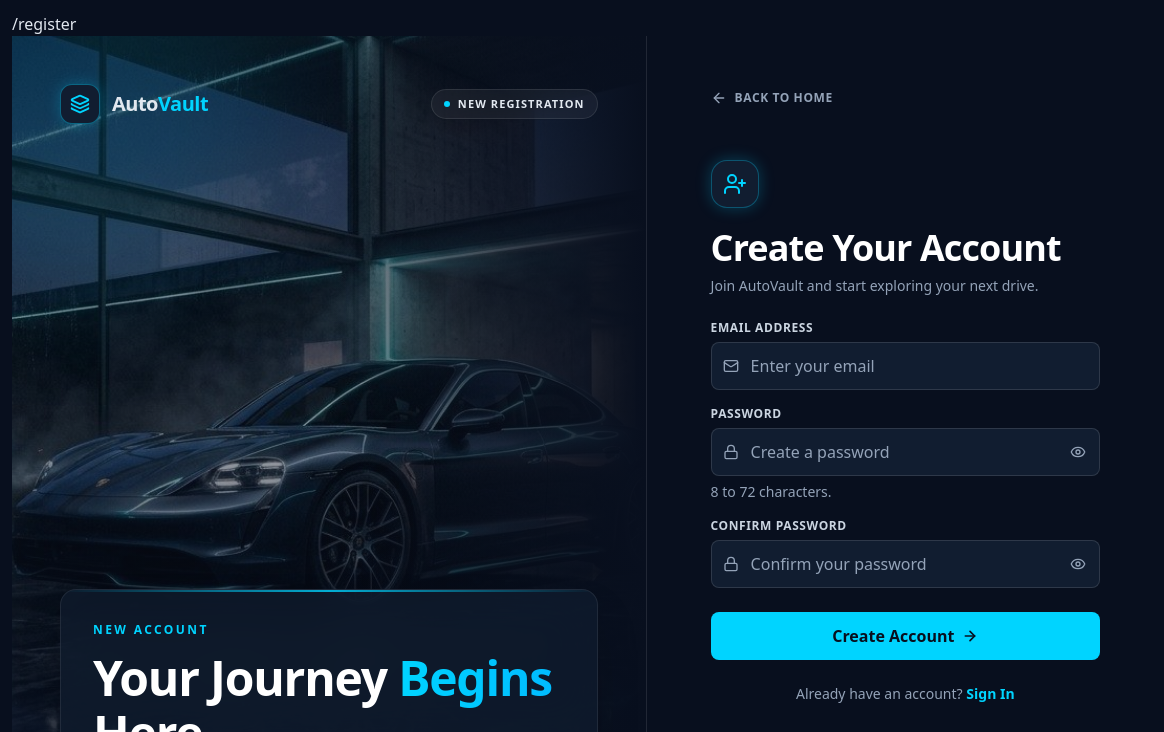
Test case: RegisterPage › checks the input before bothering the server › tells the person what is wrong next to each field, and puts the cursor on the first one
Step 1. Type "jane@example" into the field labelled "Email address" → [905, 366], box 711,342 -> 1100,390
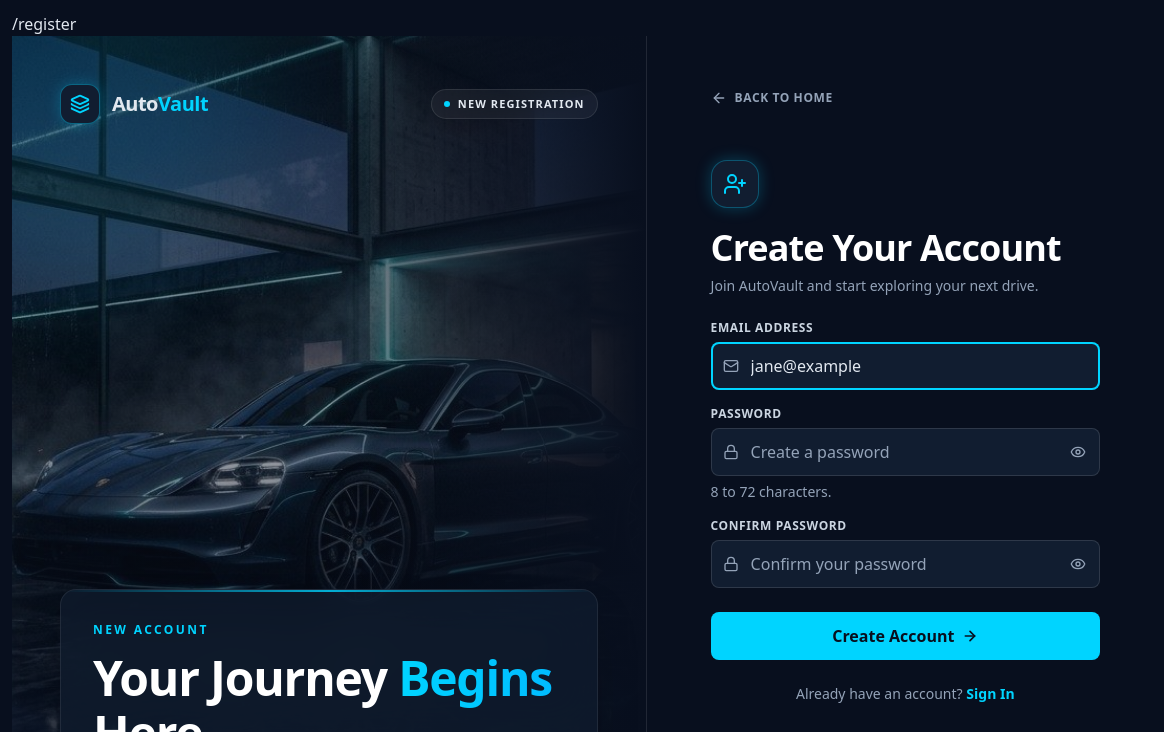
Step 2. Type "short" into the password field labelled "Password" → [905, 452], box 711,428 -> 1100,476
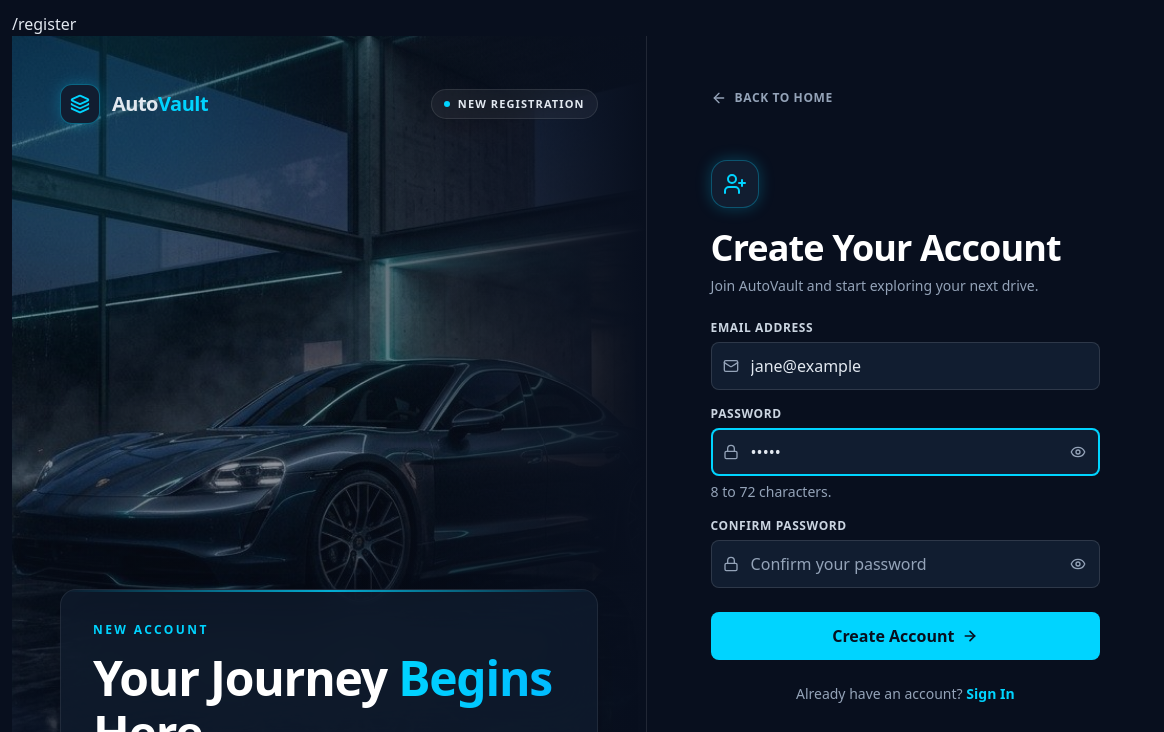
Step 3. Type "short" into the password field labelled "Confirm password" → [905, 564], box 711,540 -> 1100,588
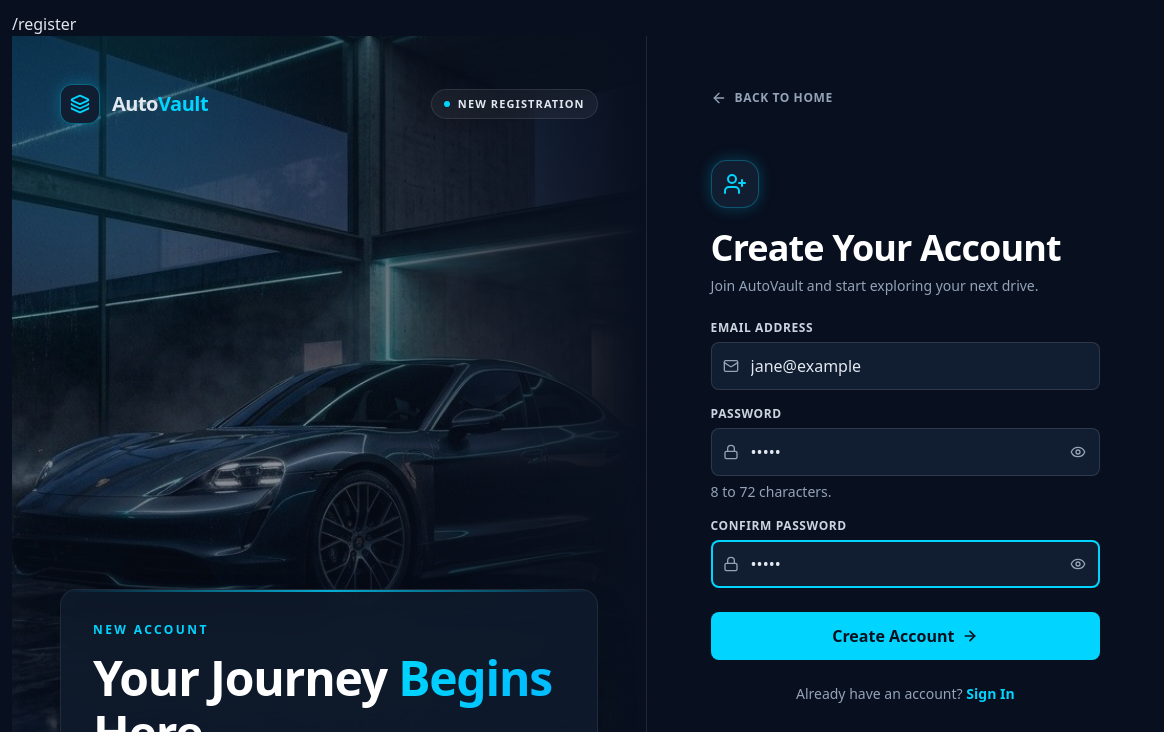
Step 4. Click the button "Create Account" → [905, 636], box 711,612 -> 1100,660
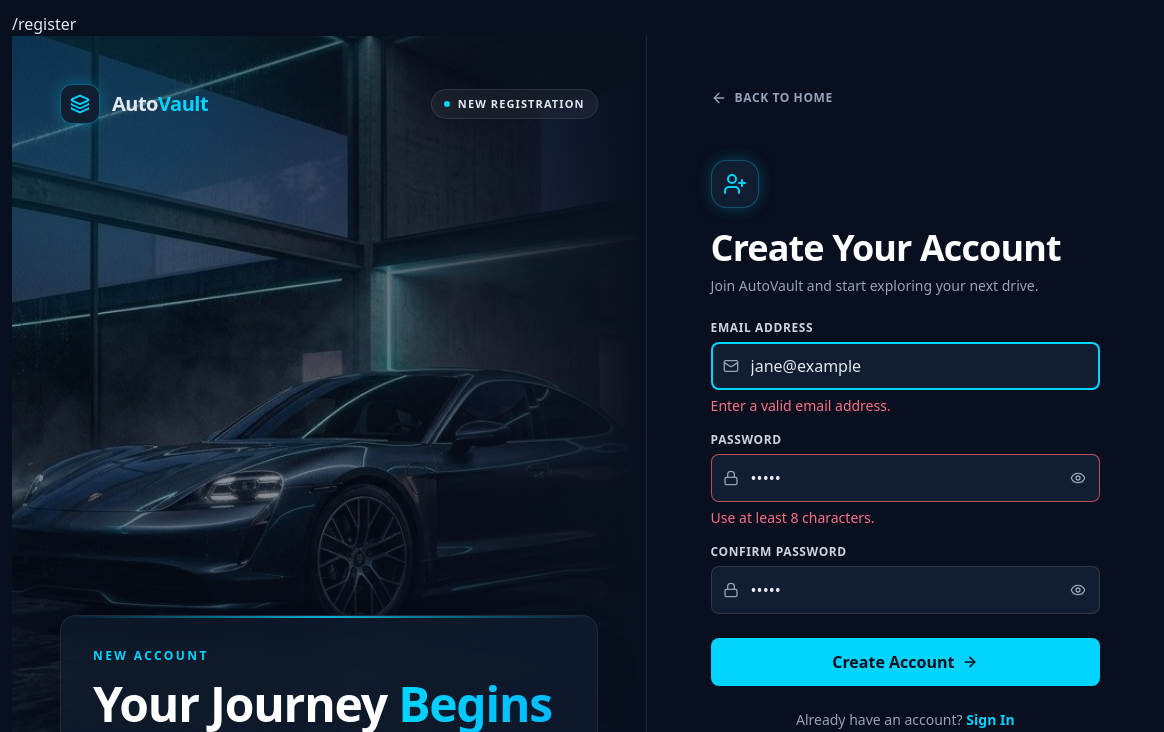
Result: the text "Enter a valid email address." is shown at 711,396 -> 891,415
Result: the text "Use at least 8 characters." is shown at 711,508 -> 874,527
